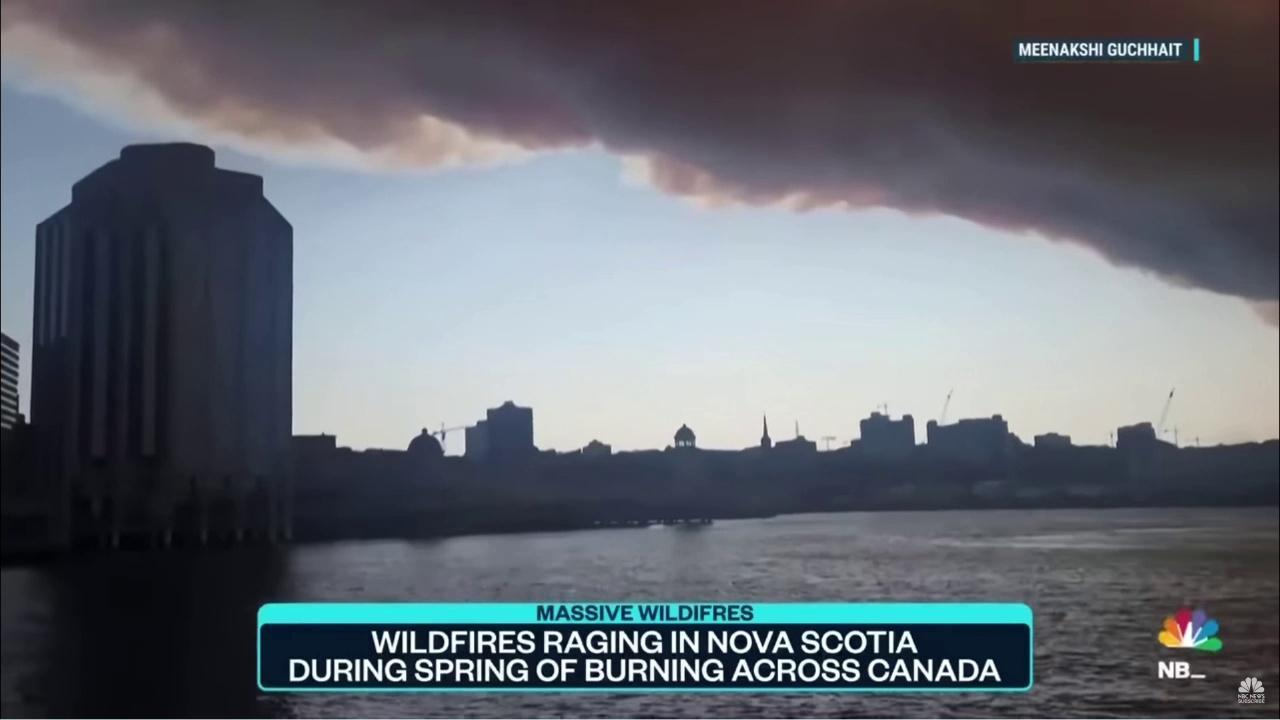smoke: (1, 0, 1280, 325)
